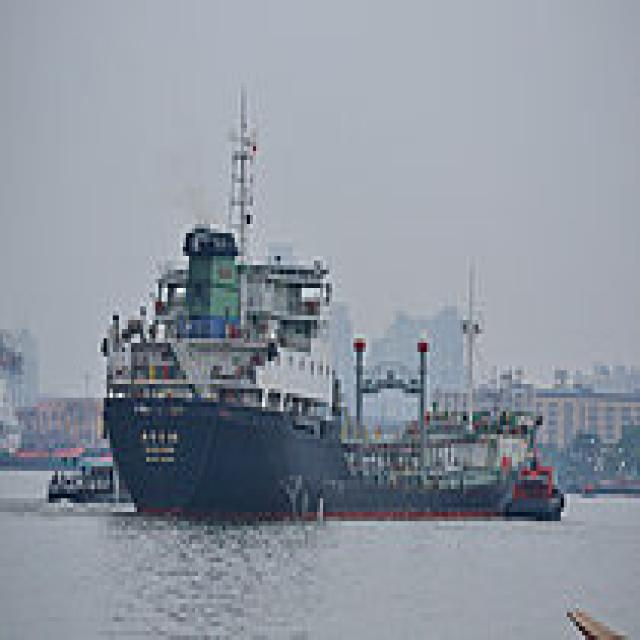Tanker: (98, 78, 342, 516)
